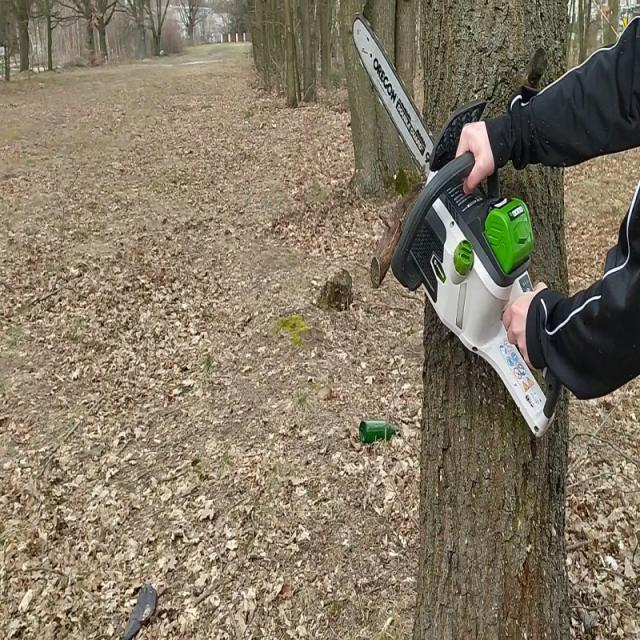Chainsaw: (347, 6, 567, 447)
